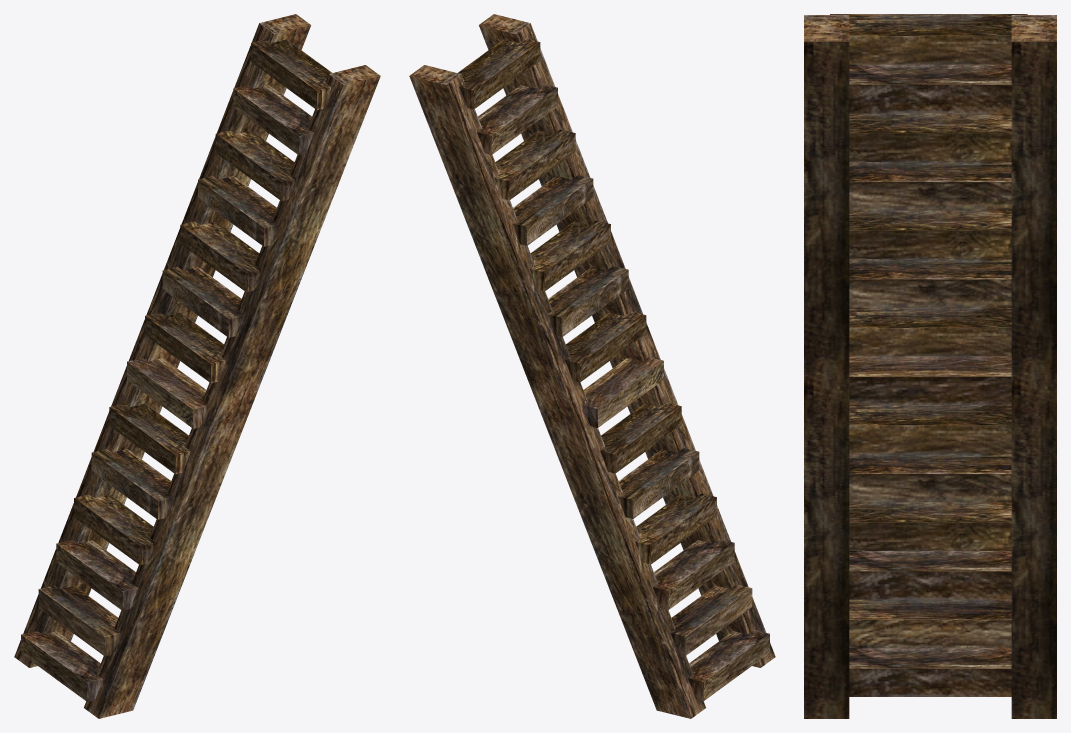
Rendered from hrt_ladder3.glb.
3 renders of one model, left to right at view 1: azimuth 30°, elevation 25°; view 2: azimuth 150°, elevation 25°; view 3: azimuth 270°, elevation 25°, orthographic. The views are drawn at different scales.
Visible parts, largest first — view 1: hrt_ladder3; view 2: hrt_ladder3; view 3: hrt_ladder3.
Part boxes in pixels (x1=…): hrt_ladder3: x1=14, y1=14, x2=380, y2=718; hrt_ladder3: x1=409, y1=14, x2=775, y2=718; hrt_ladder3: x1=804, y1=14, x2=1056, y2=718.
Size of the model in its own units: 2.08 by 4.01 by 1.07.
1 material, 1 textured.
